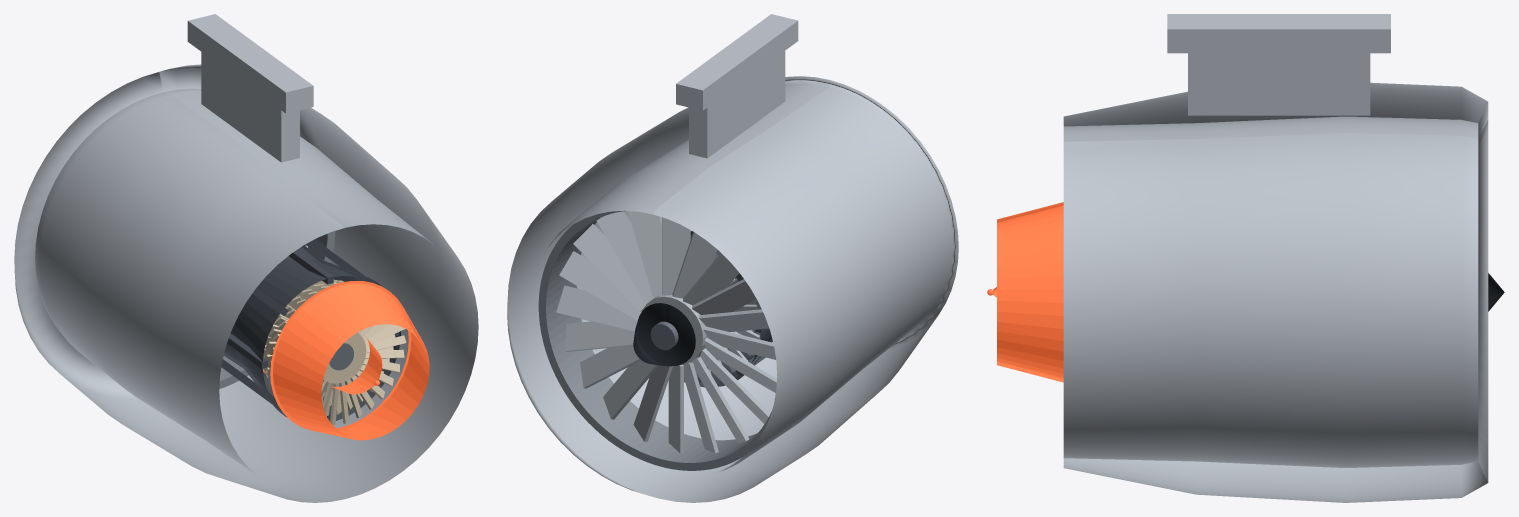
File: turbofan.glb
3 renders of one model, left to right at view 1: azimuth 30°, elevation 25°; view 2: azimuth 150°, elevation 25°; view 3: azimuth 270°, elevation 25°, orthographic. The views are drawn at different scales.
Parts seen in each view (by area): view 1: nacelle, nozzle, pylon, core_casing, lp_turbine, fan_case; view 2: nacelle, fan, fan_case, pylon, spinner, core_casing, shaft, lp_compressor; view 3: nacelle, pylon, nozzle.
Part boxes in pixels (x1,y1,x2,y2): nacelle: [14, 64, 478, 502]; nozzle: [270, 281, 429, 440]; pylon: [187, 14, 313, 162]; core_casing: [221, 239, 400, 420]; lp_turbine: [263, 279, 406, 425]; fan_case: [219, 231, 335, 388]; nacelle: [507, 76, 958, 502]; fan: [556, 211, 776, 453]; fan_case: [538, 210, 771, 470]; pylon: [676, 14, 798, 158]; spinner: [633, 303, 695, 366]; core_casing: [684, 231, 772, 387]; shaft: [650, 321, 678, 350]; lp_compressor: [696, 254, 760, 374]; nacelle: [1063, 82, 1488, 502]; pylon: [1167, 14, 1390, 115]; nozzle: [987, 202, 1063, 382].
Bounding box in the file's own units: 2.54 × 3.07 × 3.12.
